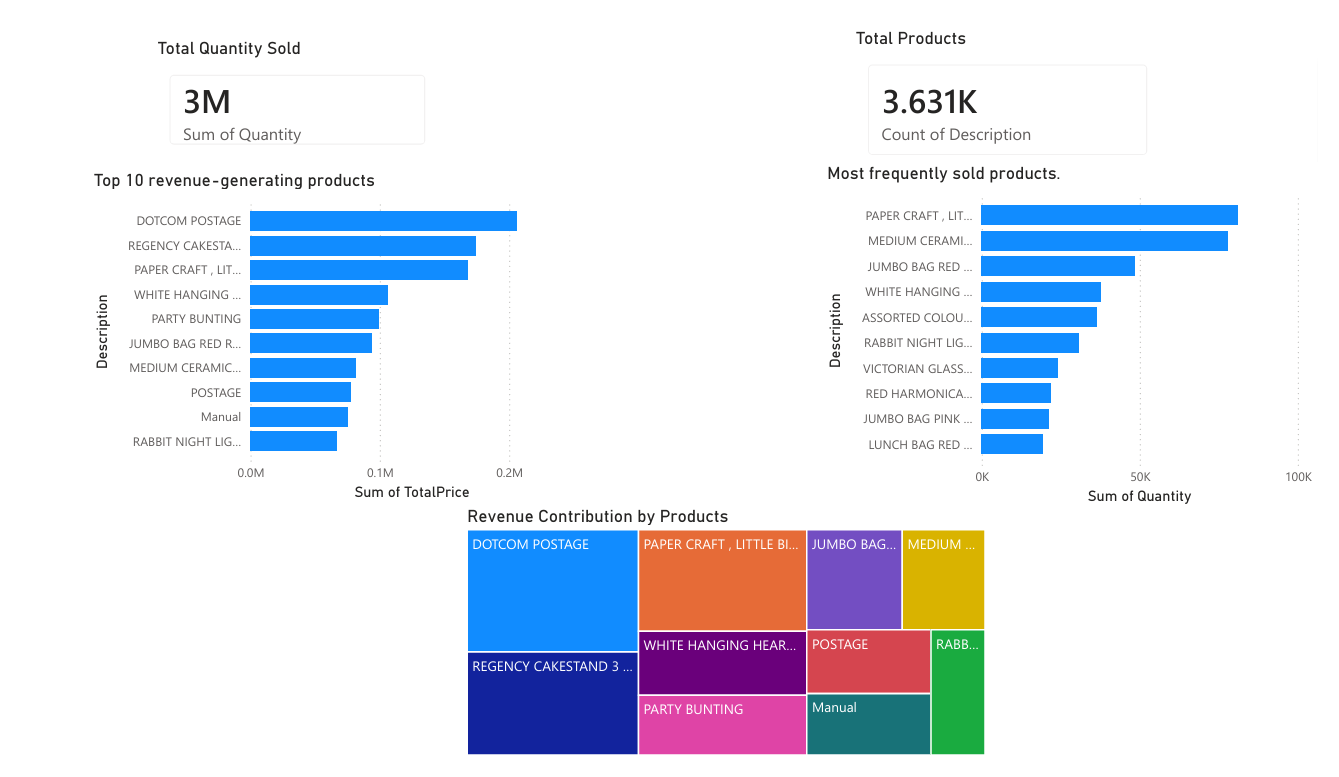

Layout of this report page (visuals, bound fields, positions):
{"tool":"powerbi","page":{"name":"Product Performance","canvas":[1280,720],"ordinal":2},"visuals":[{"type":"cardVisual","title":"Total Quantity Sold","fields":{"Data":["Sum(data.Quantity)"]},"box":[144.1,15.1,282.7,122.1],"z":0},{"type":"cardVisual","title":"Total Products","fields":{"Data":["Count(data.Description)"]},"box":[824.7,5.5,306,141.3],"z":1000},{"type":"clusteredBarChart","title":"Top 10 revenue-generating products","fields":{"Category":["data.Description"],"Y":["Sum(data.TotalPrice)"]},"box":[82.3,142.7,491.3,328],"z":2000},{"type":"clusteredBarChart","title":"Most frequently sold products.","fields":{"Y":["Sum(data.Quantity)"],"Category":["data.Description"]},"box":[797.3,137.2,483,337.6],"z":3000},{"type":"treemap","title":"Revenue Contribution by Products","fields":{"Group":["data.Description"],"Values":["Sum(data.TotalPrice)"]},"box":[446,470.7,514.6,249.7],"z":4000}]}

Visuals, with their boxes on the page's 1280x720 design canvas (x1, y1, x2, y2). These are canvas units, not pixel positions in the 1339x777 screenshot, which may show the page scaled, cropped or inside an application window:
"Total Quantity Sold" cardVisual: x1=144, y1=15, x2=427, y2=137
"Total Products" cardVisual: x1=825, y1=6, x2=1131, y2=147
"Top 10 revenue-generating products" clusteredBarChart: x1=82, y1=143, x2=574, y2=471
"Most frequently sold products." clusteredBarChart: x1=797, y1=137, x2=1280, y2=475
"Revenue Contribution by Products" treemap: x1=446, y1=471, x2=961, y2=720
